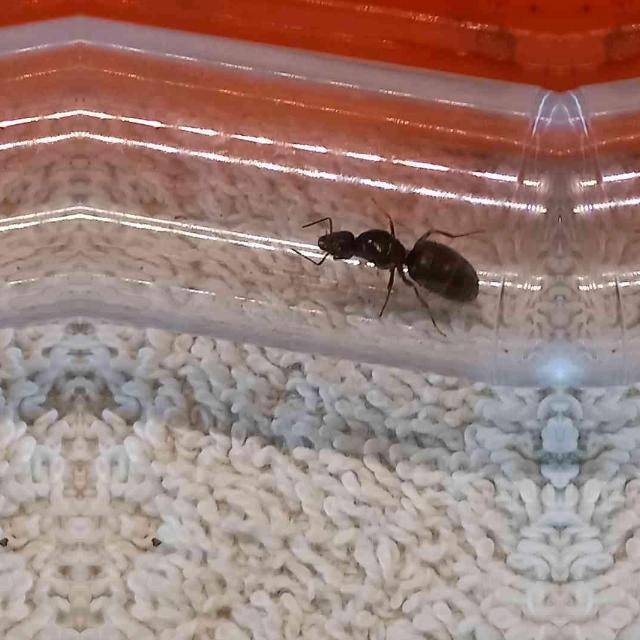Lasius: (307, 212, 488, 326)
